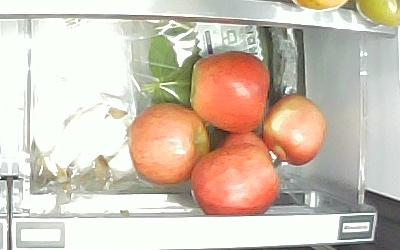apple: (126, 104, 212, 185), (191, 141, 282, 217), (191, 52, 270, 135), (265, 94, 327, 166)
